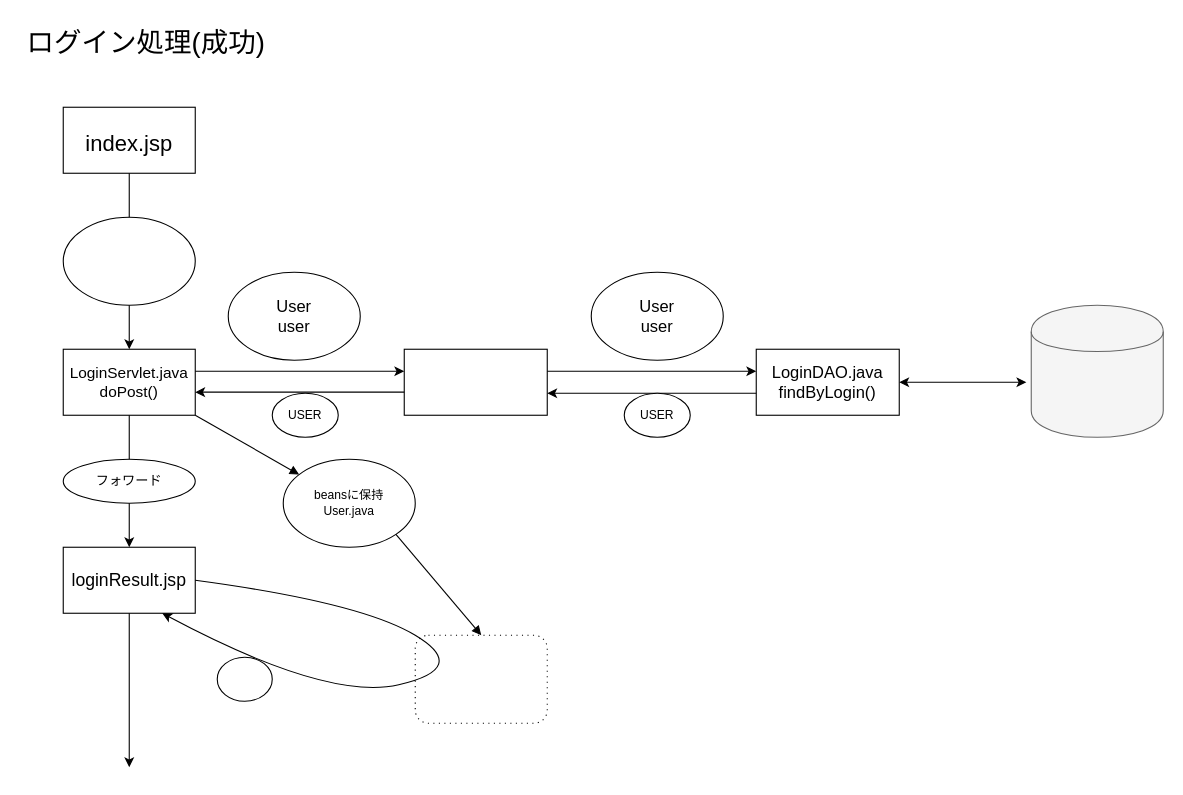
This 1183x795 diagram has some shape labels left out. Here are the shapes that lost their labels. From the top down, the box of each, then its label:
(62, 216, 195, 305): name= 入力値 pass=入力値 accountID=入力値
(403, 348, 547, 415): LoginLogic.java execute()
(1030, 304, 1163, 437): USER テーブル
(216, 656, 272, 701): 取得
(414, 634, 547, 723): セッション スコープ
